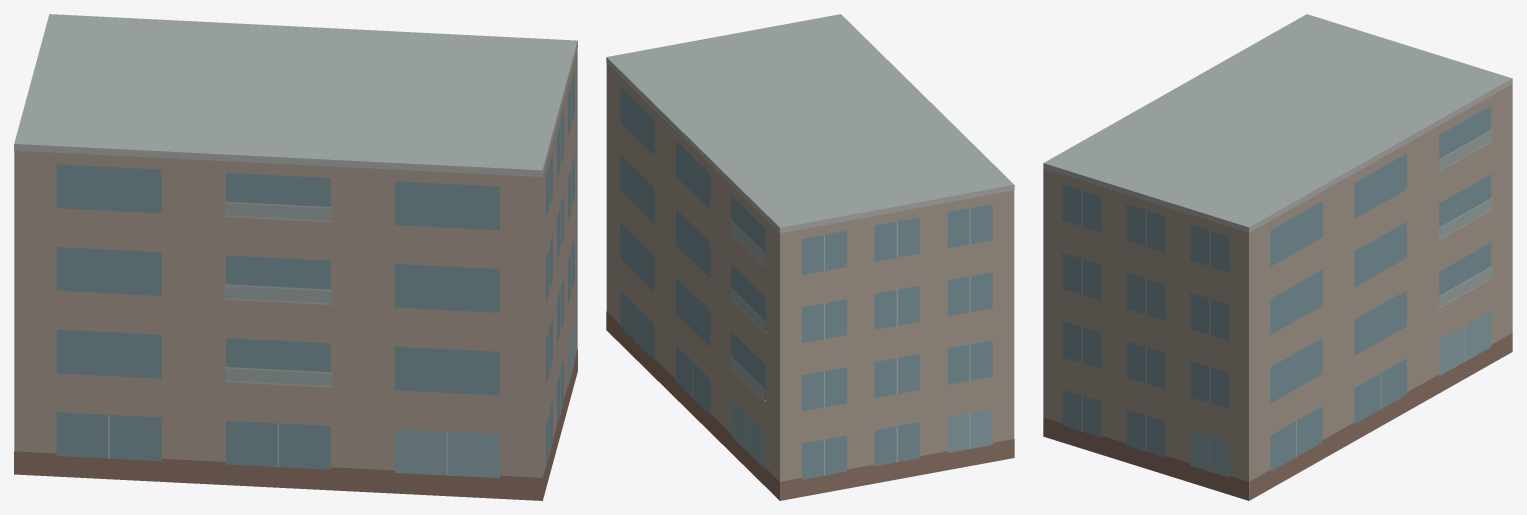
File: survey-upis-32824427.glb
The picture shows the model from 3 angles, left to right: view 1: azimuth 30°, elevation 25°; view 2: azimuth 150°, elevation 25°; view 3: azimuth 270°, elevation 25°; orthographic projection. The views are drawn at different scales.
Visible parts, largest first — view 1: survey-upis-32824427.tmp; view 2: survey-upis-32824427.tmp; view 3: survey-upis-32824427.tmp.
Part boxes in pixels (box(x1,y1,x2,y2)): survey-upis-32824427.tmp: box(14, 14, 577, 500); survey-upis-32824427.tmp: box(606, 14, 1014, 500); survey-upis-32824427.tmp: box(1043, 14, 1512, 500).
Bounding box in the file's own units: 20.27 × 12.1 × 18.82.
